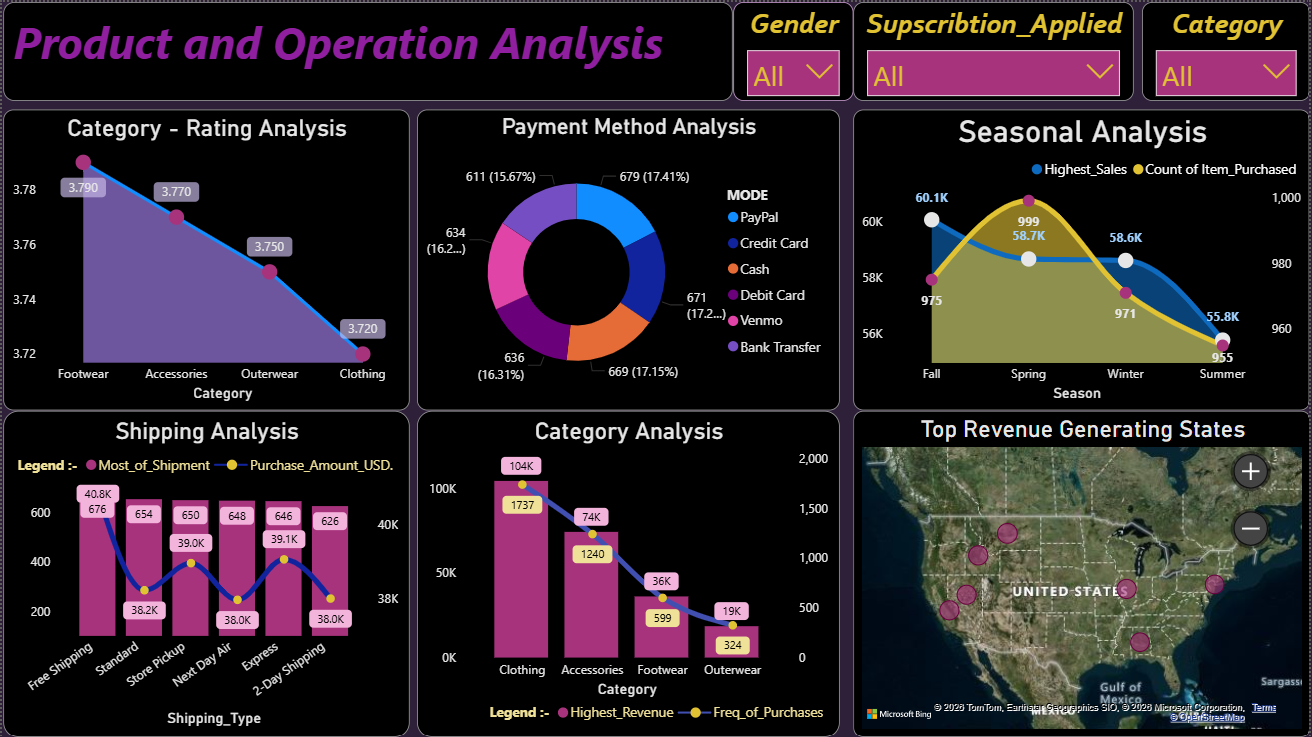

What the dashboard file says about the page in this screenshot:
{"tool":"powerbi","page":{"name":"product","canvas":[1280,720],"ordinal":1},"visuals":[{"type":"lineClusteredColumnComboChart","title":"Category Analysis","fields":{"Category":["Category.Category"],"Y":["Max(Category.Highest_Revenue)"],"Y2":["CountNonNull(customer_data.Frequency_of_Purchases)"]},"box":[405.9,399.5,413.6,320.4],"z":0},{"type":"areaChart","title":"Category - Rating Analysis","fields":{"Category":["Category vs Rating.Category"],"Y":["Sum(Category vs Rating.Avg_Rating)"]},"box":[1.2,105.2,397.4,294.7],"z":1000},{"type":"donutChart","title":"Payment Method Analysis","fields":{"Category":["Payment_method.Payment_Method"],"Y":["Max(Payment_method.Most_Payment)"]},"box":[406,105.2,413.3,294.7],"z":2000},{"type":"map","title":"Top Revenue Generating States","fields":{"Size":["Sum(Location vs Revenue.Revenue)"],"Category":["Location vs Revenue.Location"]},"box":[832.2,399.5,448,320.4],"z":3000},{"type":"lineChart","title":"Seasonal Analysis","fields":{"Category":["Seasonvise.Season"],"Y":["Max(Seasonvise.Highest_Sales)"],"Y2":["CountNonNull(customer_data.Item_Purchased)"]},"box":[832.7,105.2,447.6,294.7],"z":4000},{"type":"slicer","title":"Gender","fields":{"Values":["customer_data.Gender"]},"box":[714.8,0,117.4,97],"z":5000},{"type":"slicer","title":"Supscribtion_Applied","fields":{"Values":["customer_data.Subscription_Status"]},"box":[832.2,0,274.4,97],"z":6000},{"type":"slicer","title":"Category","fields":{"Values":["customer_data.Category"]},"box":[1115.6,0,164.7,97],"z":7000},{"type":"lineClusteredColumnComboChart","title":"Shipping Analysis","fields":{"Category":["Shipping_Type.Shipping_Type"],"Y":["Sum(Shipping_Type.Most_of_Shipping)"],"Y2":["Sum(customer_data.Purchase_Amount_USD)"]},"box":[1.2,399.9,397.4,320.4],"z":8000},{"type":"textbox","box":[1.3,0,713.5,97],"z":9000}]}

Visuals, with their boxes in screenshot pixels (x1, y1, x2, y2), scaled from the page's 1280x720 canvas onto the 1312x737 screenshot:
"Category Analysis" lineClusteredColumnComboChart: (416,409,840,736)
"Category - Rating Analysis" areaChart: (1,108,409,409)
"Payment Method Analysis" donutChart: (416,108,840,409)
"Top Revenue Generating States" map: (853,409,1311,736)
"Seasonal Analysis" lineChart: (854,108,1311,409)
"Gender" slicer: (733,0,853,99)
"Supscribtion_Applied" slicer: (853,0,1134,99)
"Category" slicer: (1143,0,1311,99)
"Shipping Analysis" lineClusteredColumnComboChart: (1,409,409,736)
textbox: (1,0,733,99)
